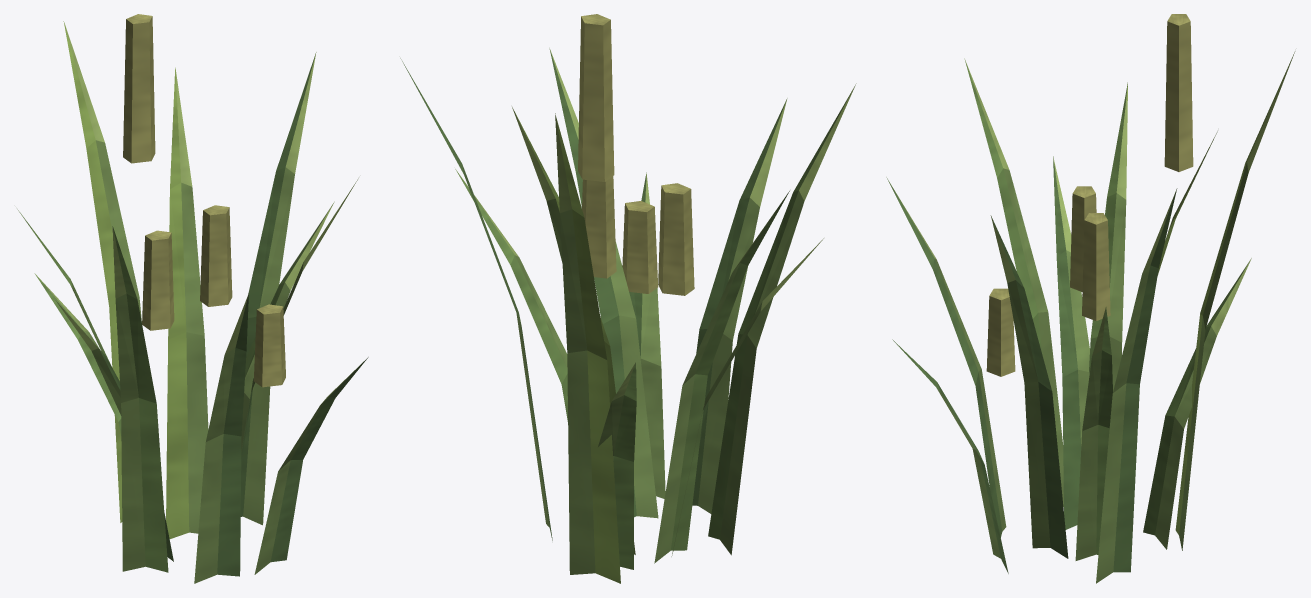
File: reed_clump_01.fbx
3 views of the same model, side by side, from view 1: azimuth 30°, elevation 25°; view 2: azimuth 150°, elevation 25°; view 3: azimuth 270°, elevation 25° (orthographic). The views are drawn at different scales.
Visible parts, largest first — view 1: reed_clump_01; view 2: reed_clump_01; view 3: reed_clump_01.
Boxes of the visible parts, <box> form: reed_clump_01: <box>17,14,368,583</box>; reed_clump_01: <box>400,14,856,583</box>; reed_clump_01: <box>886,14,1295,583</box>.
Size of the model in its own units: 71.89 by 105 by 75.
1 material, 1 textured.
